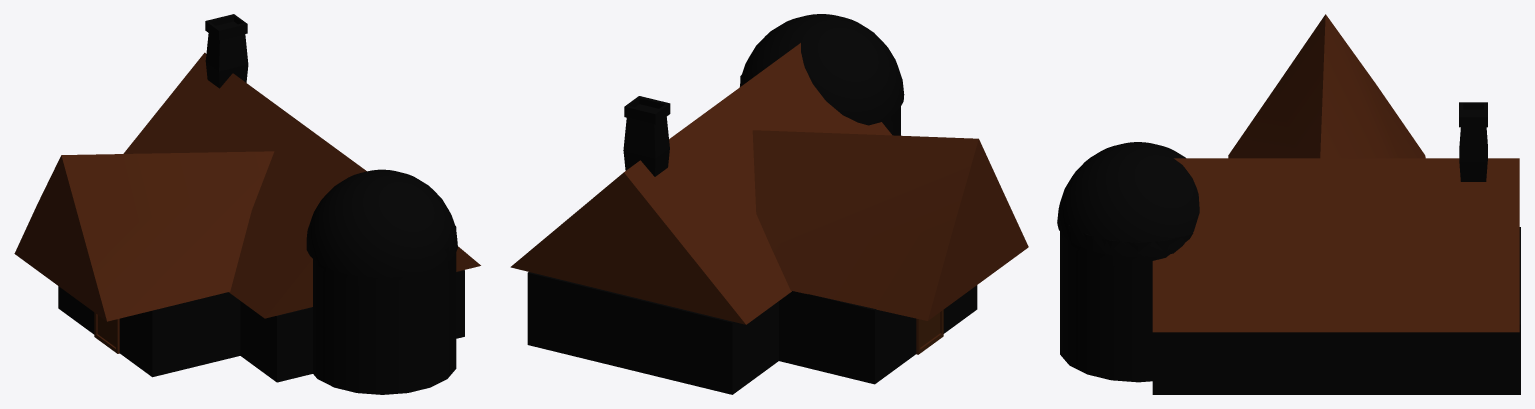
Rendered from Gads_JOuse.fbx.
The picture shows the model from 3 angles, left to right: view 1: azimuth 30°, elevation 25°; view 2: azimuth 150°, elevation 25°; view 3: azimuth 270°, elevation 25°; orthographic projection. The views are drawn at different scales.
Parts seen in each view (by area): view 1: Prism002; view 2: Prism002; view 3: Prism002.
Boxes of the visible parts, x1=… form: Prism002: x1=14, y1=14, x2=480, y2=394; Prism002: x1=510, y1=14, x2=1028, y2=394; Prism002: x1=1057, y1=14, x2=1520, y2=394.
Size of the model in its own units: 157 by 175 by 100.
